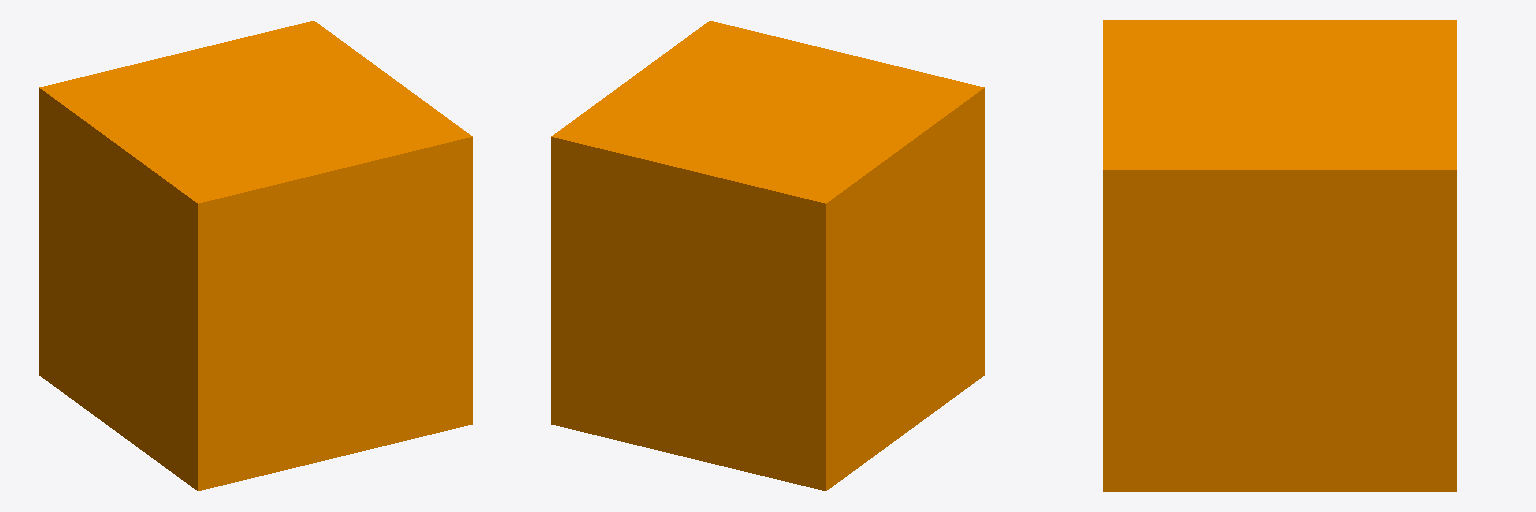
URDF robot description (plane):
<?xml version="1.0"?>

<robot name="plane">
	<link name="base_link">
		<visual>
			<geometry>
				<box size="1.0 1.0 1.0"/>
			</geometry>
			<material name="orangeDummy">
				<color rgba="1.0 0.6 0.0 1"/>
			</material>
		</visual>
	</link>

	<link name="propeller_1">
		<visual>
			<geometry>
				<mesh filename="package://last_letter/data/parameters/aircraft/test_propulsion/urdf/10x4.7.stl"/>
			</geometry>
			<material name="whitePurity">
				<color rgba="1.0 1.0 1.0 1.0"/>
			</material>
		</visual>
	</link>

	<joint name="motor_mount" type="floating">
		<parent link="base_link"/>
		<child link="propeller_1"/>
	</joint>

</robot>

--- Render facts (derived) ---
Views: 3 orthographic renders of the robot side by side, from view 1: azimuth 30°, elevation 25°; view 2: azimuth 150°, elevation 25°; view 3: azimuth 270°, elevation 25°.
Robot: plane — 2 links, 1 joints (1 floating); root link base_link; default pose: all joints at 0.
Visible links, largest first — view 1: base_link; view 2: base_link; view 3: base_link.
Link boxes in pixels (left/top/right/bottom): base_link: left=39, top=21, right=472, bottom=490; base_link: left=551, top=21, right=984, bottom=490; base_link: left=1103, top=20, right=1456, bottom=491.
Size in the robot's own frame: 1 by 1 by 1 metres.
Meshes: 1 distinct files referenced, 1 mesh visuals loaded (1 binary STL).